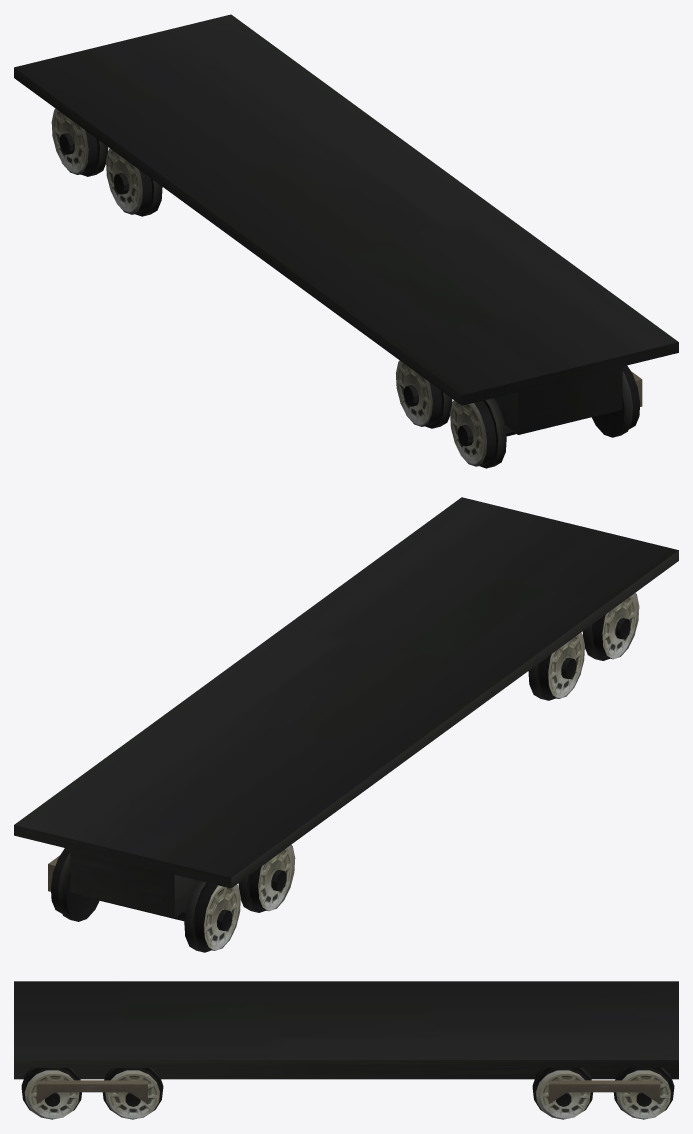
The model's file is train_base.fbx.
3 renders of one model, top to bottom at view 1: azimuth 30°, elevation 25°; view 2: azimuth 150°, elevation 25°; view 3: azimuth 270°, elevation 25°, orthographic. The views are drawn at different scales.
Parts seen in each view (by area): view 1: train_base; view 2: train_base; view 3: train_base.
Boxes of the visible parts, left/top/right/bottom form: train_base: left=14, top=14, right=678, bottom=468; train_base: left=14, top=497, right=678, bottom=952; train_base: left=14, top=981, right=678, bottom=1119.
Size of the model in its own units: 54.73 by 23.94 by 195.
1 material, 1 textured.
